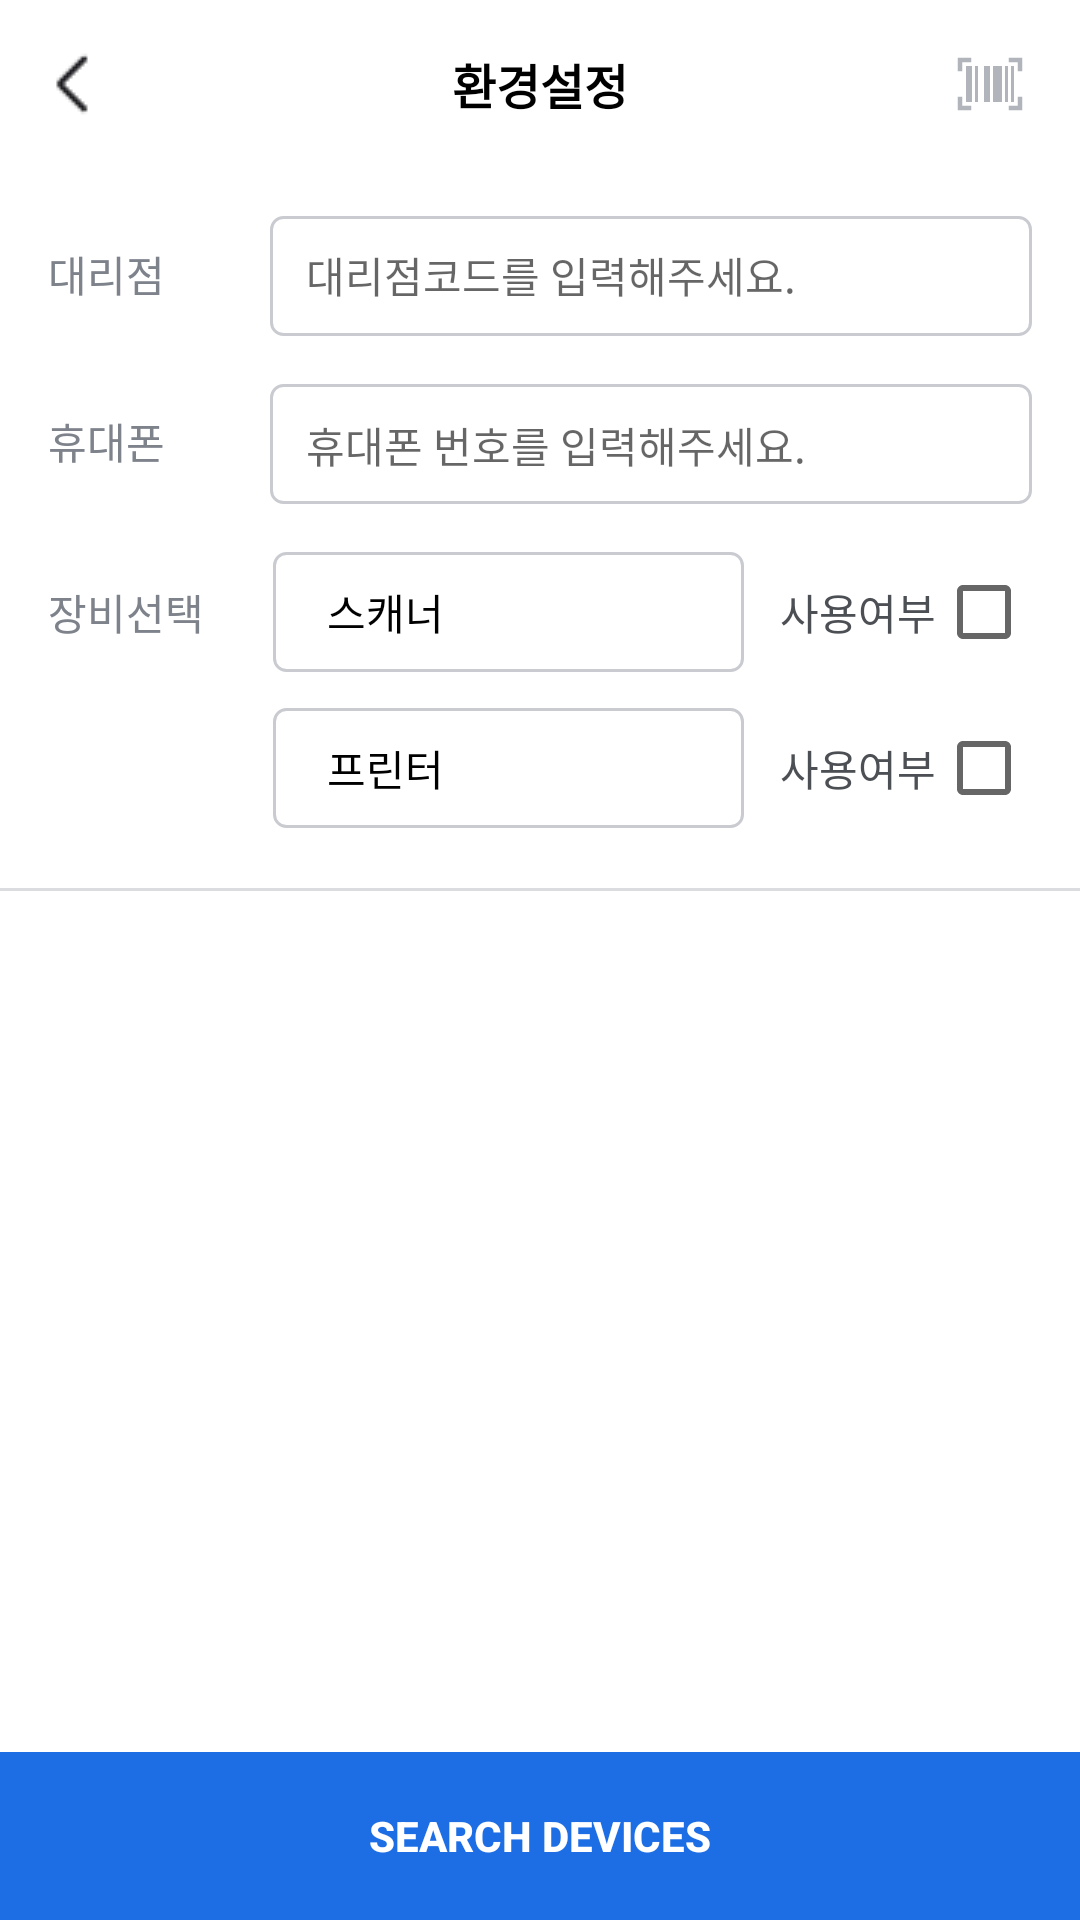

Screen size 1080px x 1920px. Icon name, then its center in pixels as [x,y]:
arrow back: [72,84]
scan: [990,84]
